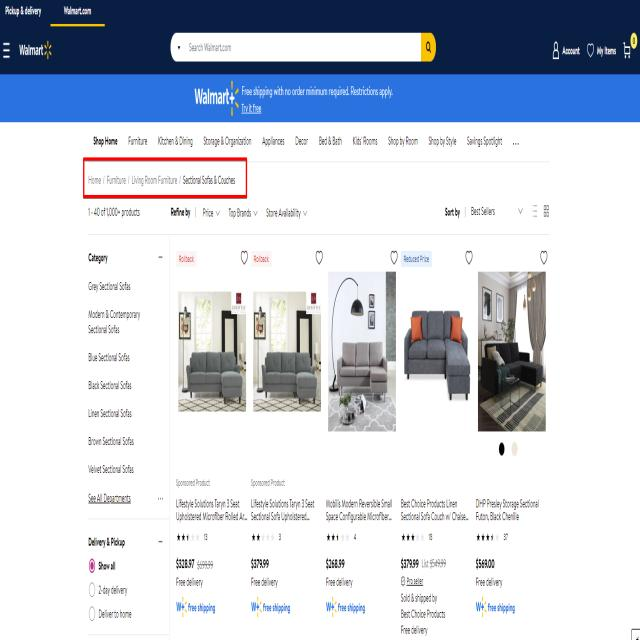Breadcrumb: (87, 173, 236, 192)
Image: (330, 272, 396, 430), (404, 272, 473, 421), (479, 276, 544, 431), (179, 292, 246, 408), (255, 294, 320, 409)
Navigation-dots: (499, 440, 519, 458)
buttons: (3, 40, 52, 62), (203, 135, 253, 150), (587, 42, 618, 61), (159, 134, 195, 150), (553, 41, 581, 61), (5, 4, 41, 19), (468, 135, 503, 150), (389, 134, 418, 150), (63, 4, 93, 19), (92, 132, 119, 148), (429, 135, 457, 150), (353, 135, 378, 150), (262, 134, 286, 149), (127, 134, 148, 149), (624, 38, 636, 60), (318, 134, 343, 144), (314, 249, 326, 267), (240, 249, 248, 267), (391, 251, 400, 267), (540, 249, 548, 267), (532, 202, 538, 222), (464, 249, 472, 263), (296, 137, 308, 145), (543, 202, 549, 218)
dropdown: (266, 208, 310, 219), (228, 206, 259, 218), (201, 206, 221, 222), (516, 206, 524, 222)
input-fields: (177, 36, 433, 57)
links: (326, 600, 368, 620), (250, 601, 292, 616), (474, 600, 516, 615), (175, 602, 217, 616)
radio: (88, 580, 128, 600), (89, 608, 132, 624), (88, 560, 122, 574)
text: (193, 82, 393, 115)
